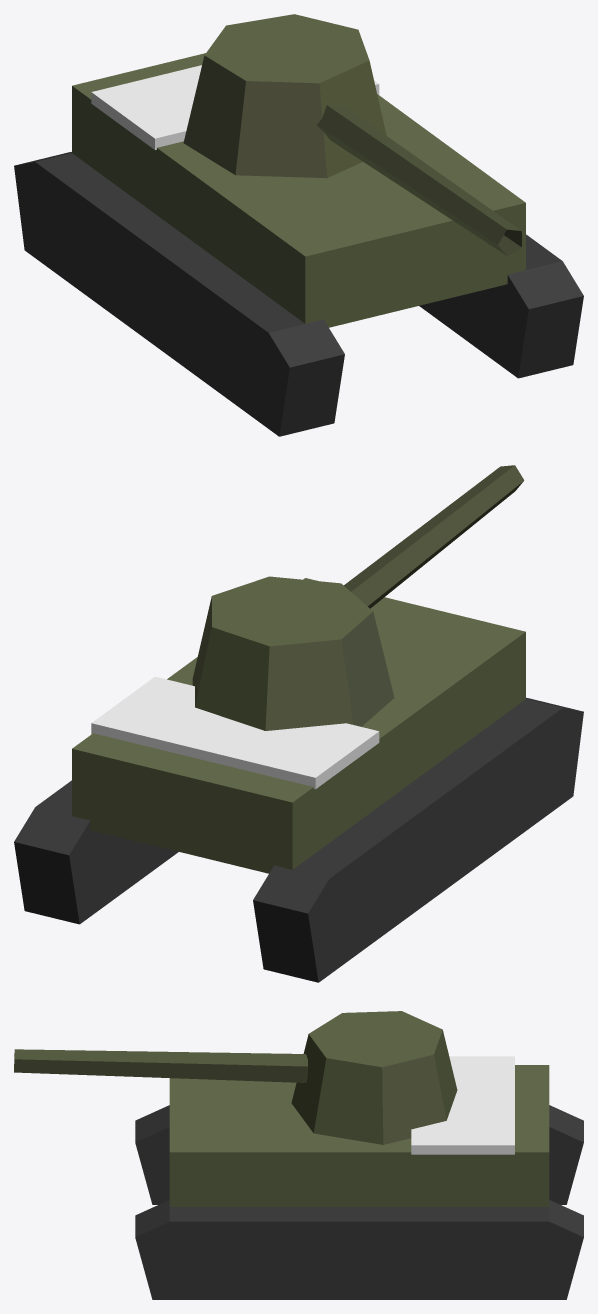
Rendered from Armored.glb.
3 views of the same model, one above another, from view 1: azimuth 30°, elevation 25°; view 2: azimuth 150°, elevation 25°; view 3: azimuth 270°, elevation 25° (orthographic). The views are drawn at different scales.
Visible parts, largest first — view 1: Units_Armored; view 2: Units_Armored; view 3: Units_Armored.
Part boxes in pixels (<box>): Units_Armored: <box>14,14,583,436</box>; Units_Armored: <box>14,465,583,982</box>; Units_Armored: <box>14,1011,583,1299</box>.
Size of the model in its own units: 0.16 by 0.13 by 0.3302.
